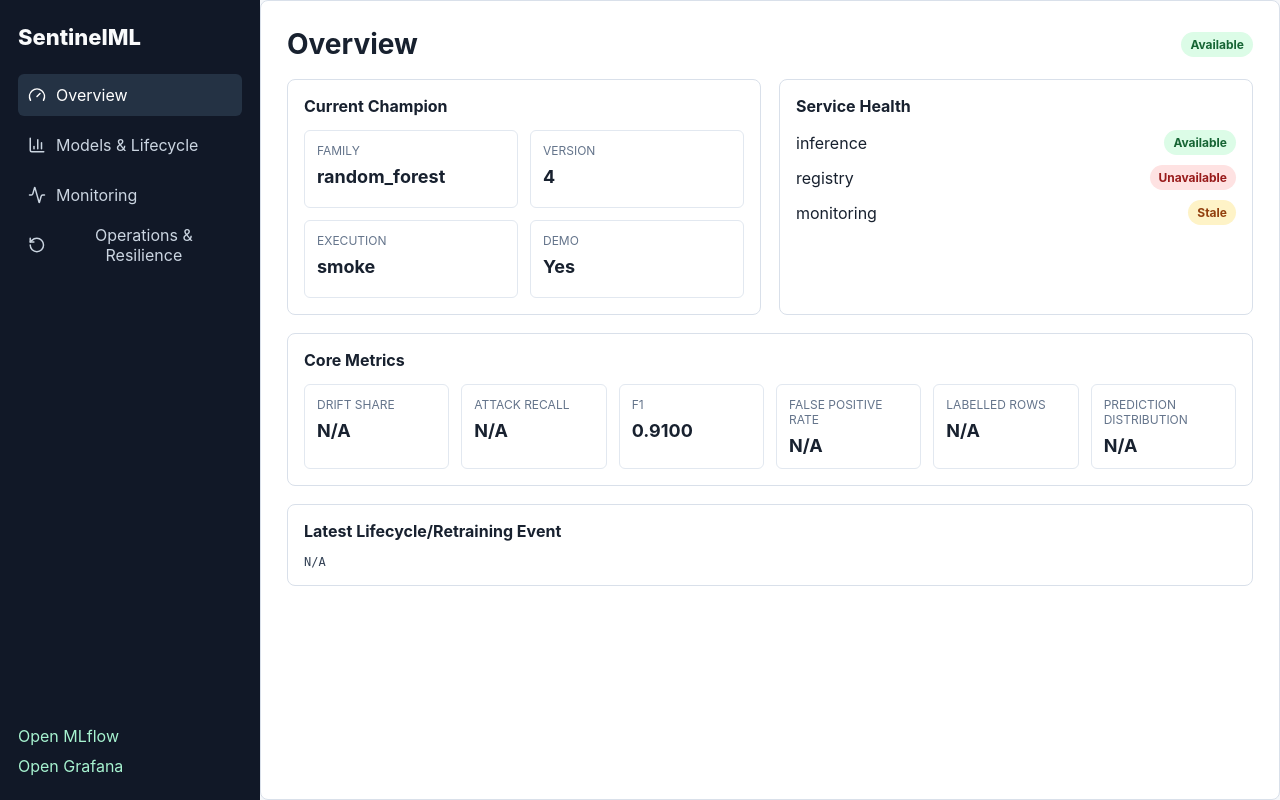
SentinelML operations dashboard › renders no_data inactive and degraded operations state
Click the button "Operations & Resilience": (130, 245) [18,224,242,266]
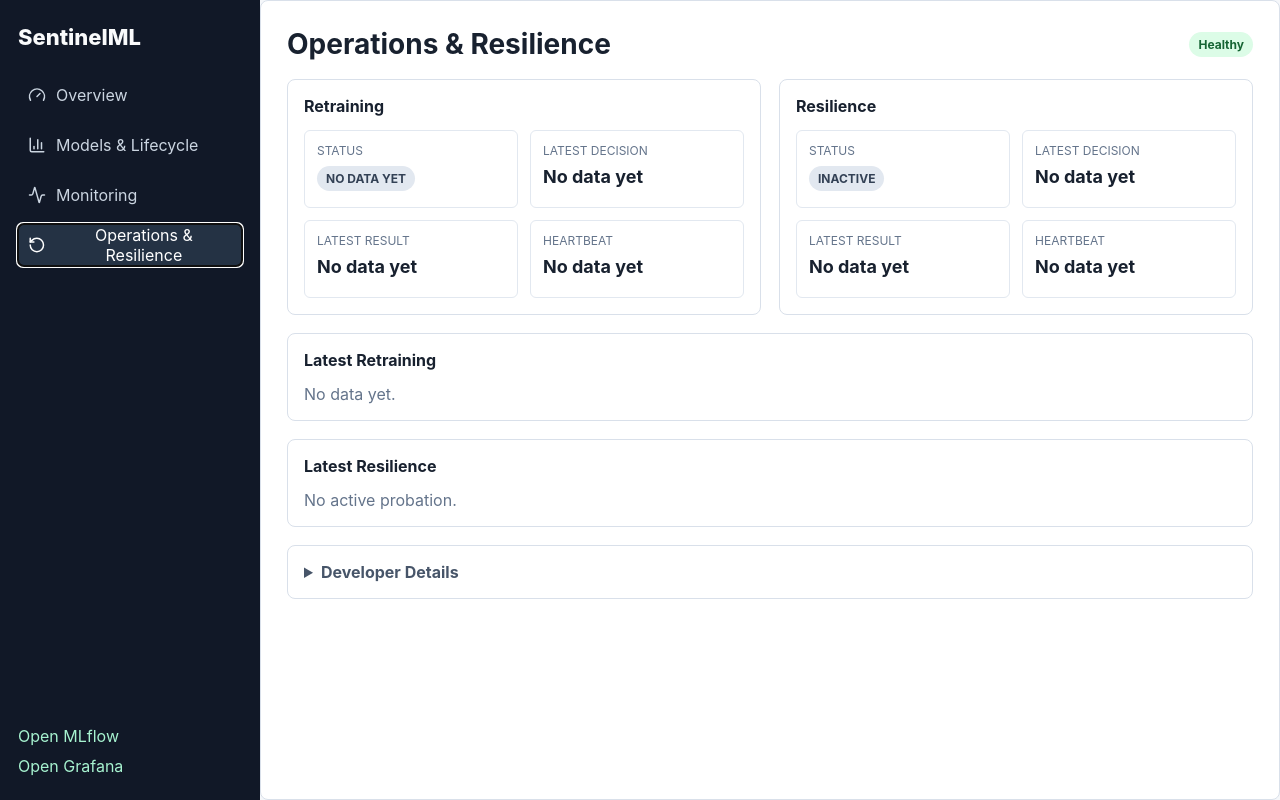
Check: the 1st text "No data yet" is shown, box [317,166,415,191]
Check: the text "Inactive" is shown, box [809,166,884,191]
Check: the text "No active probation." is shown, box [304,490,457,510]
